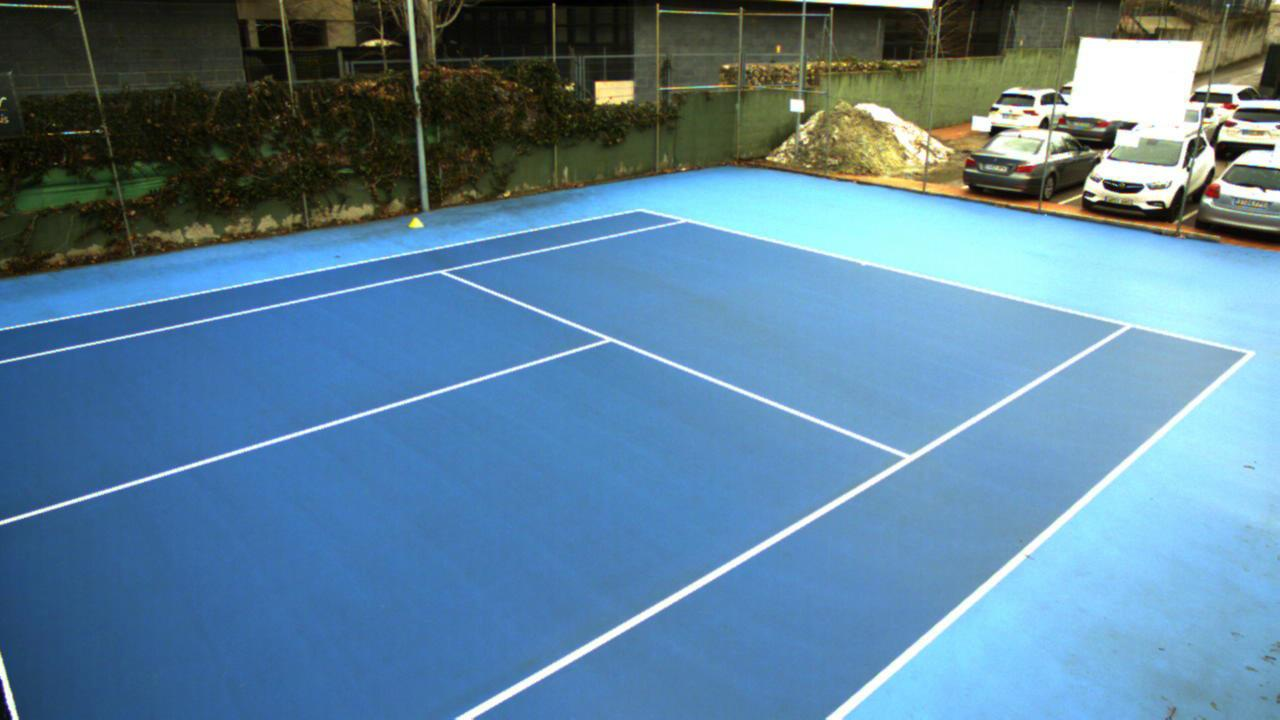cancha_tenis: (0, 220, 1134, 720)
point_f1: (672, 213, 700, 233)
point_f2: (1115, 313, 1141, 339)
point_fc1: (854, 250, 877, 277)
point_i1: (433, 260, 457, 282)
point_i2: (887, 444, 921, 475)
point_ic1: (586, 324, 622, 355)
